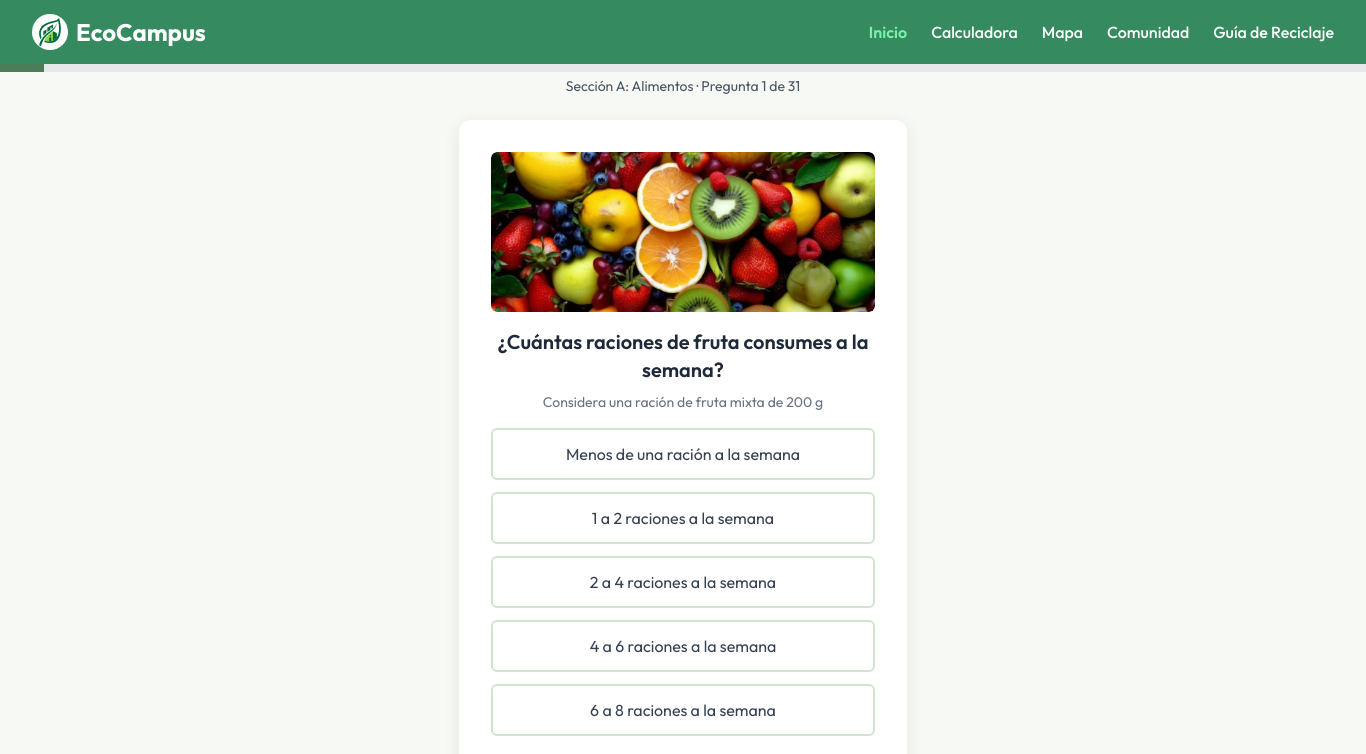
Scenario: Calculadora › Siguiente esta deshabilitado hasta seleccionar una opcion
The width and height of the screenshot is (1366, 754).
Click the button "1 a 2 raciones a la semana".
click(683, 518)  # box [491,492,875,544]
(page scrolled)
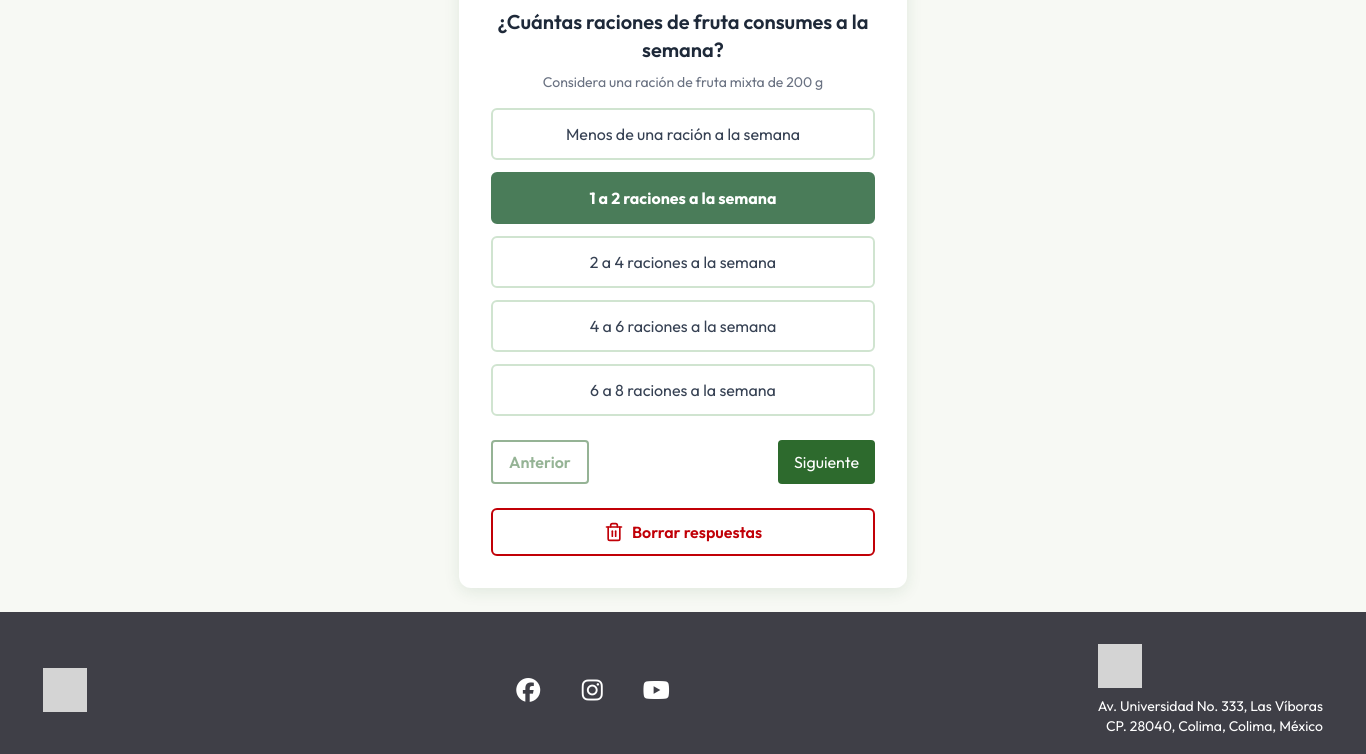
expect the button "Siguiente" is enabled: met, box [778,440,875,484]
